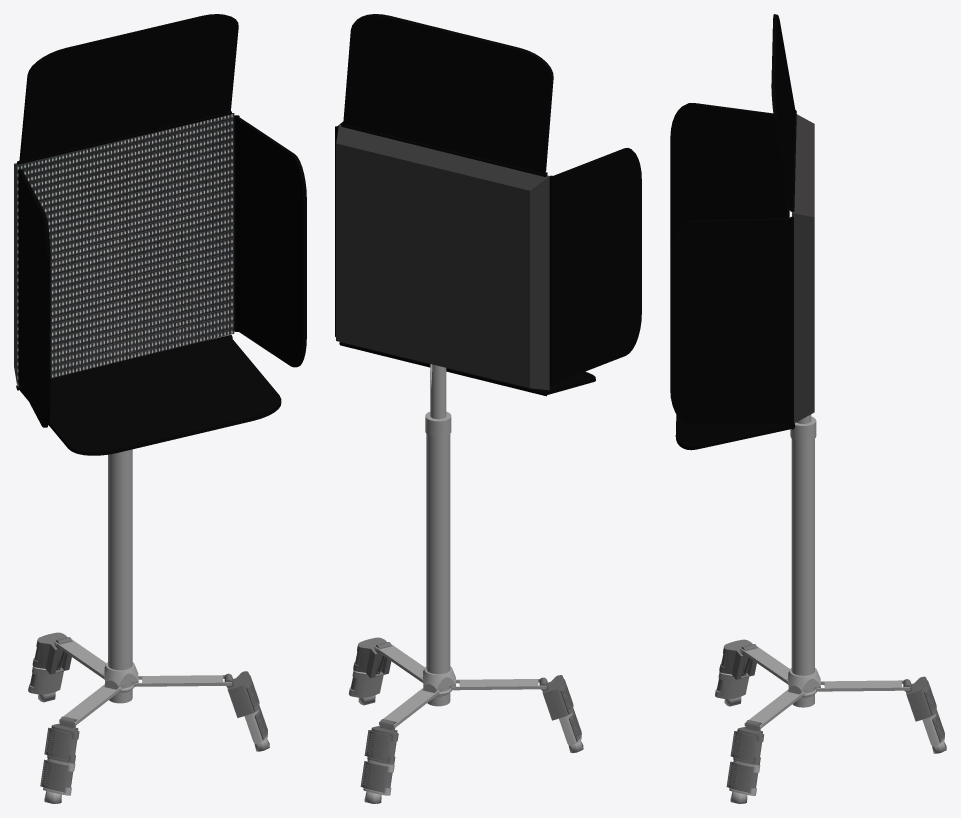
File: Led_pied.fbx
3 renders of one model, left to right at view 1: azimuth 30°, elevation 25°; view 2: azimuth 150°, elevation 25°; view 3: azimuth 270°, elevation 25°, orthographic. The views are drawn at different scales.
Parts seen in each view (by area): view 1: pCube1, Cylinder1451, Cylinder1452, Cylinder1449, Cylinder1450, polySurface43, polySurface29, polySurface33, polySurface9, polySurface36, polySurface16, polySurface12 (+3 smaller); view 2: pCube1, Cylinder1451, Cylinder1450, polySurface43, Cylinder1452, polySurface9, polySurface36, polySurface37, polySurface19, polySurface41, polySurface22, polySurface26 (+3 smaller); view 3: Cylinder1449, Cylinder1450, pCube1, polySurface43, Cylinder1451, Cylinder1452, polySurface19, polySurface41, polySurface29, polySurface33, polySurface2, polySurface6 (+3 smaller).
Part boxes in pixels (x1,y1,x2,y2): pCube1: (14, 113, 234, 386); Cylinder1451: (17, 14, 238, 164); Cylinder1452: (16, 335, 281, 455); Cylinder1449: (234, 115, 306, 367); Cylinder1450: (18, 169, 50, 427); polySurface43: (108, 449, 132, 703); polySurface29: (32, 632, 71, 674); polySurface33: (134, 675, 231, 686); polySurface9: (224, 671, 259, 717); polySurface36: (59, 684, 121, 726); polySurface16: (44, 727, 77, 760); polySurface12: (40, 759, 72, 792); pCube1: (336, 124, 549, 390); Cylinder1451: (341, 14, 553, 176); Cylinder1450: (549, 148, 641, 386); polySurface43: (426, 434, 450, 706); Cylinder1452: (339, 342, 595, 396); polySurface9: (353, 637, 391, 678); polySurface36: (451, 679, 546, 690); polySurface37: (430, 364, 446, 419); polySurface19: (539, 675, 573, 720); polySurface41: (379, 688, 439, 728); polySurface22: (360, 761, 392, 792); polySurface26: (364, 730, 396, 761); Cylinder1449: (670, 216, 793, 425); Cylinder1450: (670, 103, 789, 253); pCube1: (792, 114, 814, 423); polySurface43: (791, 439, 814, 707); Cylinder1451: (771, 14, 796, 211); Cylinder1452: (675, 414, 794, 450); polySurface19: (719, 639, 756, 679); polySurface41: (816, 680, 910, 691); polySurface29: (903, 676, 936, 721); polySurface33: (744, 689, 804, 729); polySurface2: (726, 761, 757, 792); polySurface6: (730, 731, 761, 761).
Size of the model in its own units: 15.77 by 42.27 by 15.14.
